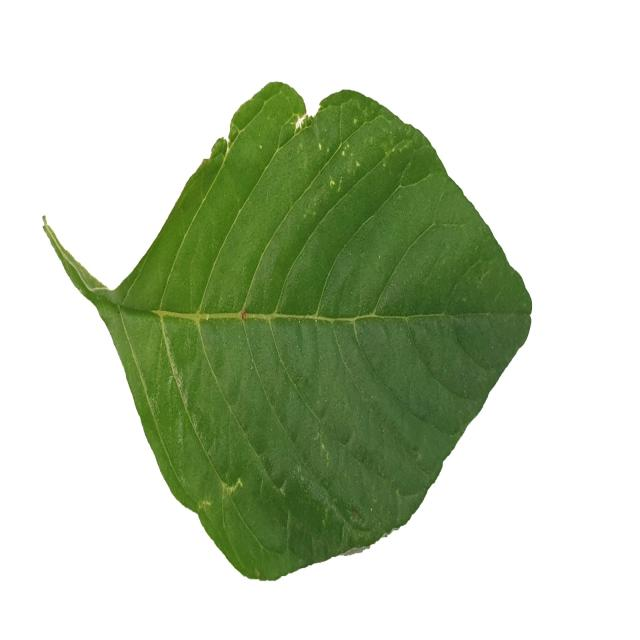Medicinal-Arive Dantu: (46, 81, 531, 584)
